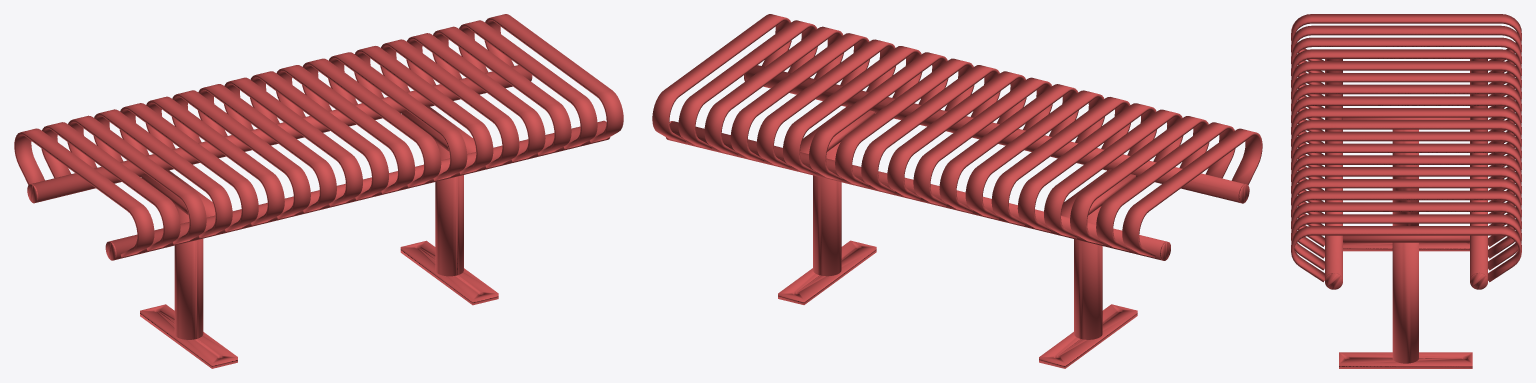
3 views of the same model, side by side, from view 1: azimuth 30°, elevation 25°; view 2: azimuth 150°, elevation 25°; view 3: azimuth 270°, elevation 25° (orthographic). The views are drawn at different scales.
Visible parts, largest first — view 1: mesh25_mesh25-geometry, mesh21_mesh21-geometry, mesh27_mesh27-geometry, mesh4_mesh4-geometry, mesh20_mesh20-geometry, mesh5_mesh5-geometry, mesh8_mesh8-geometry, mesh9_mesh9-geometry, mesh12_mesh12-geometry, mesh3_mesh3-geometry, mesh6_mesh6-geometry, mesh13_mesh13-geometry (+13 smaller); view 2: mesh21_mesh21-geometry, mesh25_mesh25-geometry, mesh20_mesh20-geometry, mesh4_mesh4-geometry, mesh27_mesh27-geometry, mesh5_mesh5-geometry, mesh7_mesh7-geometry, mesh6_mesh6-geometry, mesh13_mesh13-geometry, mesh16_mesh16-geometry, mesh18_mesh18-geometry, mesh19_mesh19-geometry (+13 smaller); view 3: mesh21_mesh21-geometry, mesh11_mesh11-geometry, mesh16_mesh16-geometry, mesh18_mesh18-geometry, mesh10_mesh10-geometry, mesh15_mesh15-geometry, mesh13_mesh13-geometry, mesh5_mesh5-geometry, mesh3_mesh3-geometry, mesh17_mesh17-geometry, mesh1_mesh1-geometry, mesh7_mesh7-geometry (+15 smaller).
Part boxes in pixels (x1,y1,x2,y2): mesh25_mesh25-geometry: (140, 206, 237, 368); mesh21_mesh21-geometry: (400, 142, 498, 305); mesh27_mesh27-geometry: (32, 65, 530, 202); mesh4_mesh4-geometry: (14, 128, 154, 257); mesh20_mesh20-geometry: (110, 121, 608, 259); mesh5_mesh5-geometry: (41, 122, 180, 250); mesh8_mesh8-geometry: (328, 52, 467, 180); mesh9_mesh9-geometry: (145, 96, 284, 225); mesh12_mesh12-geometry: (380, 39, 519, 168); mesh3_mesh3-geometry: (119, 103, 258, 231); mesh6_mesh6-geometry: (224, 77, 362, 206); mesh13_mesh13-geometry: (172, 90, 310, 219); mesh21_mesh21-geometry: (778, 142, 876, 304); mesh25_mesh25-geometry: (1039, 206, 1137, 368); mesh20_mesh20-geometry: (745, 65, 1244, 202); mesh4_mesh4-geometry: (1122, 128, 1262, 257); mesh27_mesh27-geometry: (667, 121, 1166, 260); mesh5_mesh5-geometry: (1096, 122, 1235, 251); mesh7_mesh7-geometry: (835, 58, 974, 187); mesh6_mesh6-geometry: (913, 77, 1052, 206); mesh13_mesh13-geometry: (965, 90, 1104, 219); mesh16_mesh16-geometry: (678, 20, 817, 149); mesh18_mesh18-geometry: (704, 26, 843, 155); mesh19_mesh19-geometry: (939, 84, 1078, 212); mesh21_mesh21-geometry: (1339, 242, 1472, 368); mesh11_mesh11-geometry: (1291, 226, 1521, 282); mesh16_mesh16-geometry: (1291, 214, 1521, 270); mesh18_mesh18-geometry: (1291, 202, 1521, 258); mesh10_mesh10-geometry: (1291, 190, 1521, 246); mesh15_mesh15-geometry: (1291, 131, 1521, 178); mesh13_mesh13-geometry: (1291, 84, 1521, 131); mesh5_mesh5-geometry: (1291, 25, 1521, 72); mesh3_mesh3-geometry: (1291, 61, 1521, 108); mesh17_mesh17-geometry: (1291, 167, 1521, 214); mesh1_mesh1-geometry: (1291, 37, 1521, 84); mesh7_mesh7-geometry: (1291, 143, 1521, 190).
Bounding box in the file's own units: 0.8665 × 0.3263 × 0.3776.
